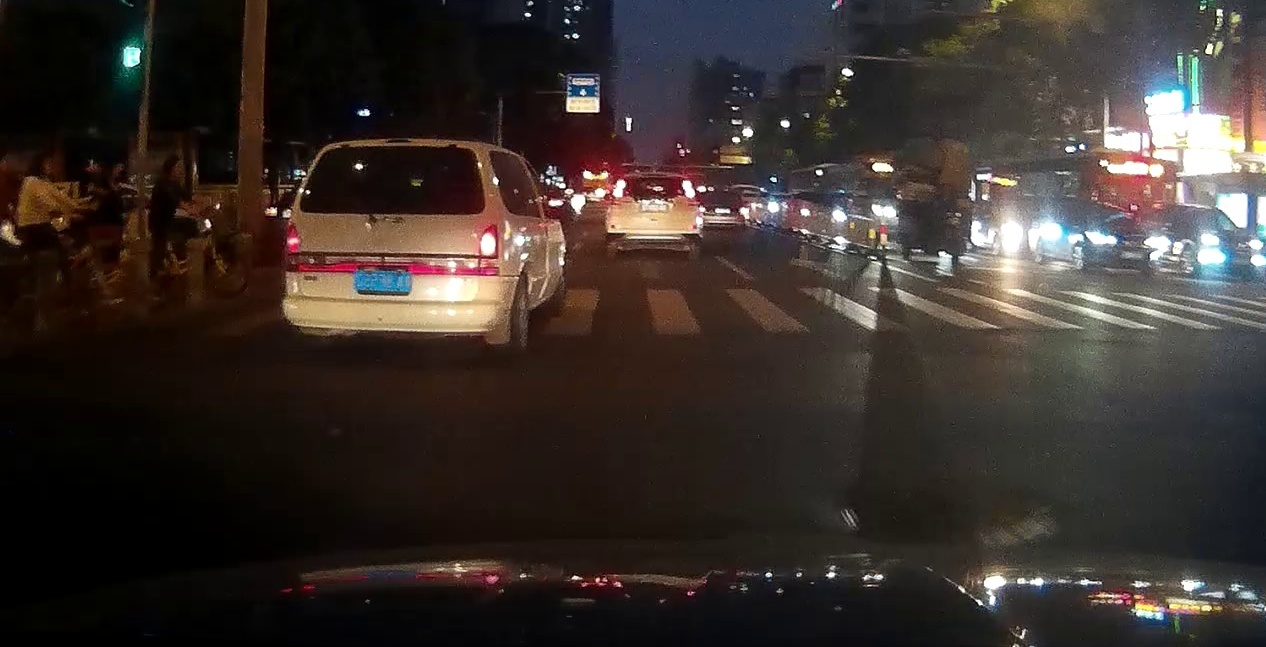L_light: (280, 223, 302, 271), (611, 177, 627, 198)
R_light: (475, 223, 500, 275), (681, 179, 696, 200)
T_light: (379, 141, 415, 151), (642, 172, 664, 178)
night-no: (604, 171, 702, 258)
night-right: (280, 137, 512, 355)
